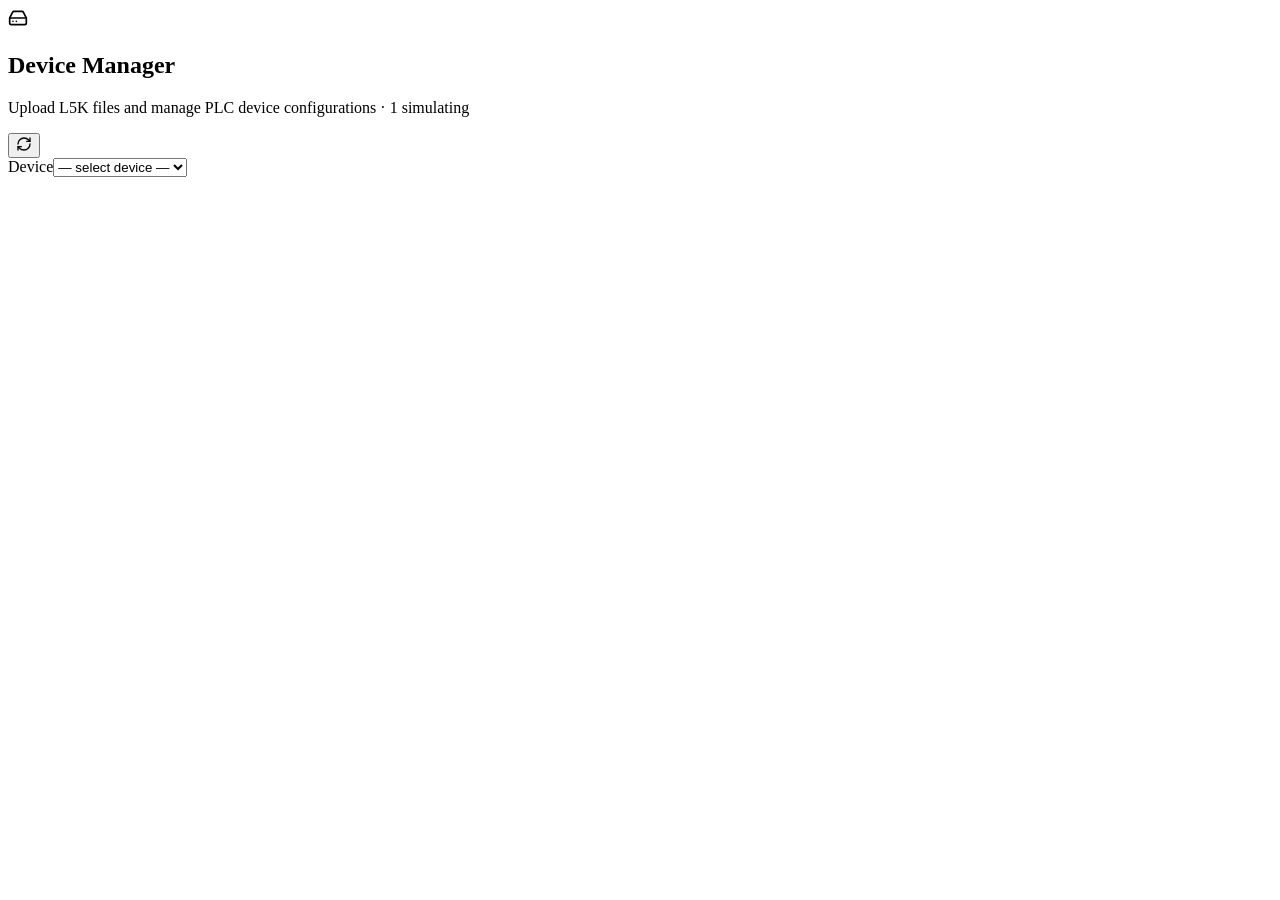
Test case: DeviceManagerView › Delete Device confirms, then sends DELETE with X-Requested-With
Select "Line1_PLC ⚡" in the dropdown labelled "Device". click: (120, 167)
box: [53,158,187,177]
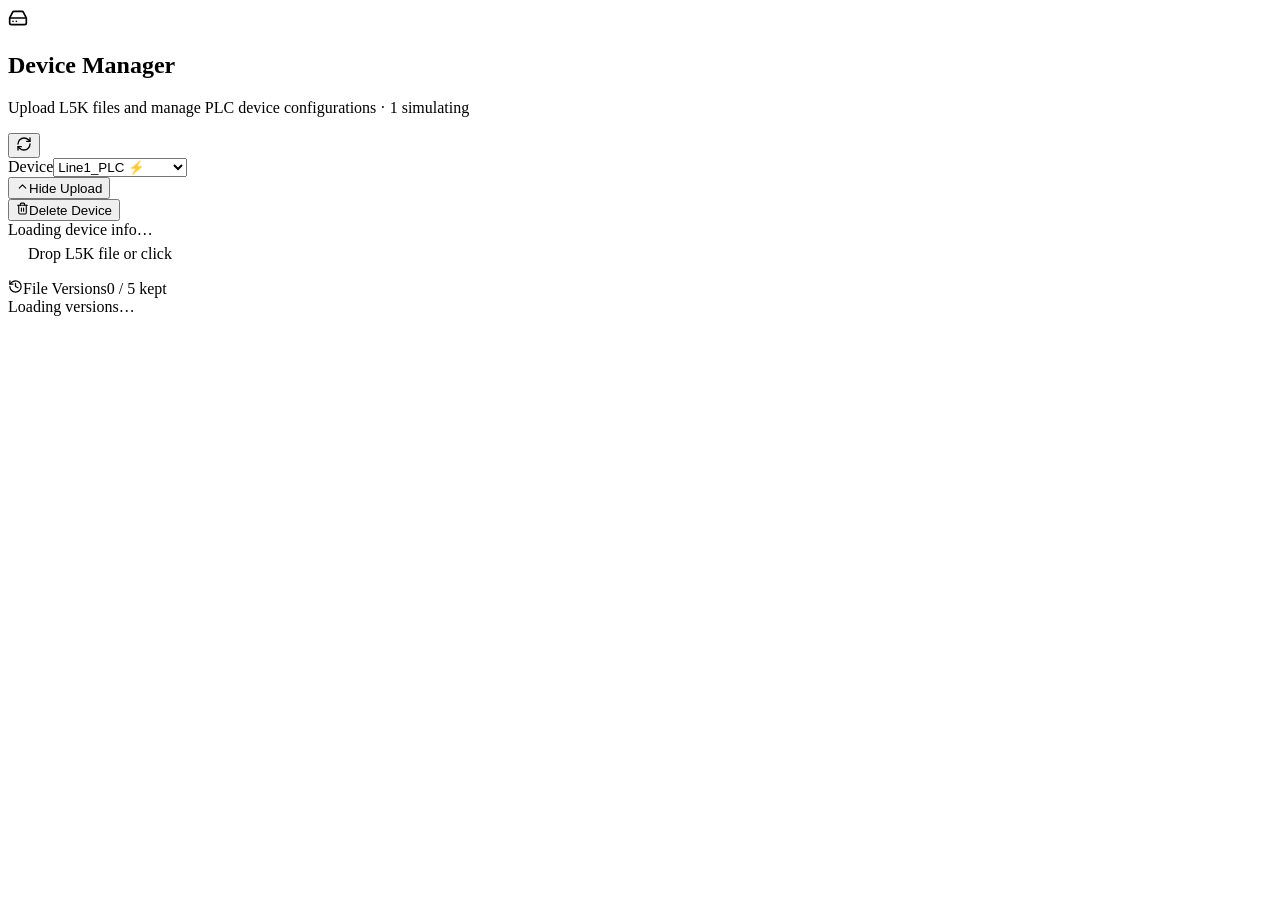
Click the button "Delete Device". click: (64, 210)
box: [8,199,120,221]
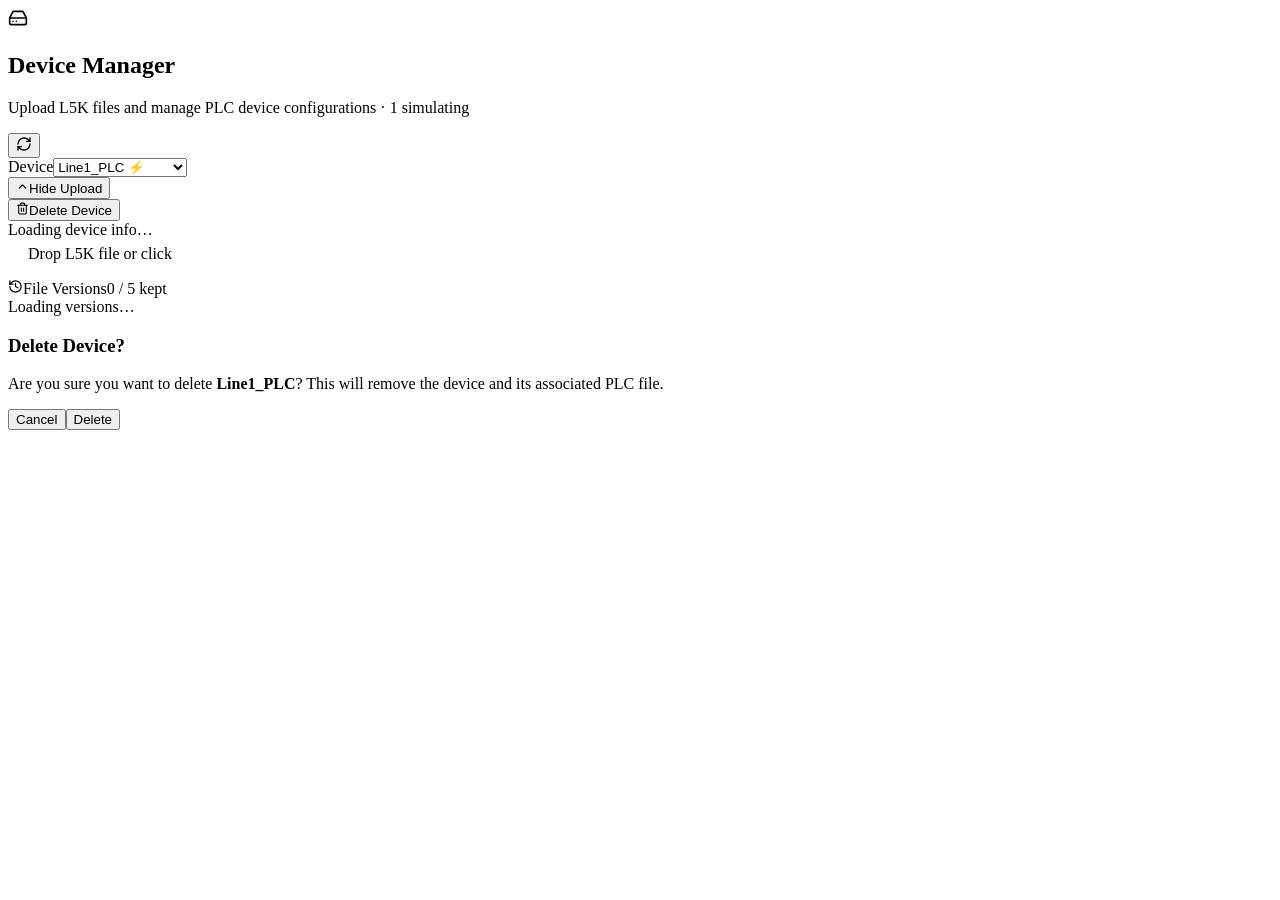
Result: the text "Line1_PLC" is shown at [216,375,296,392]
Click the button "Delete". click: (93, 420)
box: [66,409,120,430]
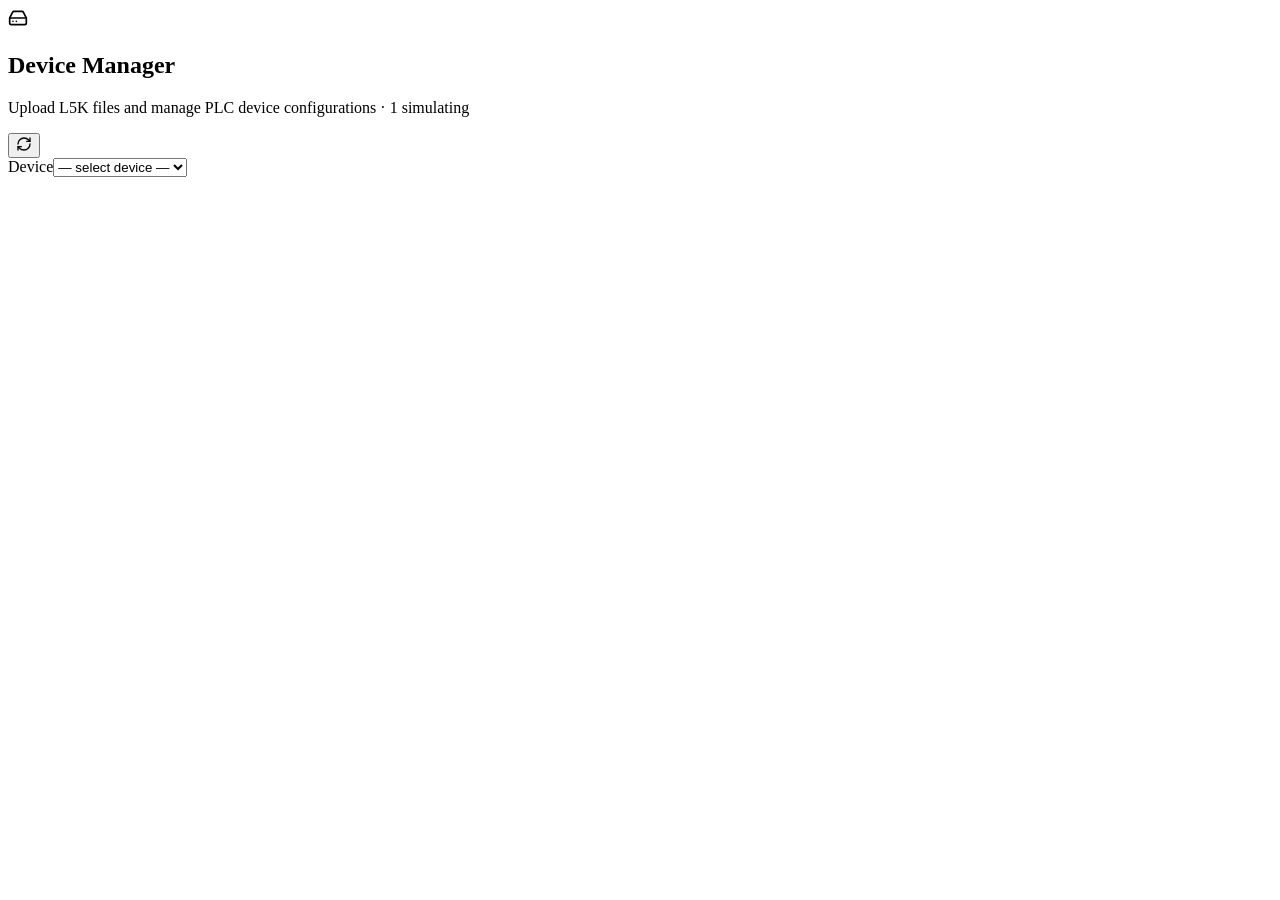
Result: the dialog is gone
